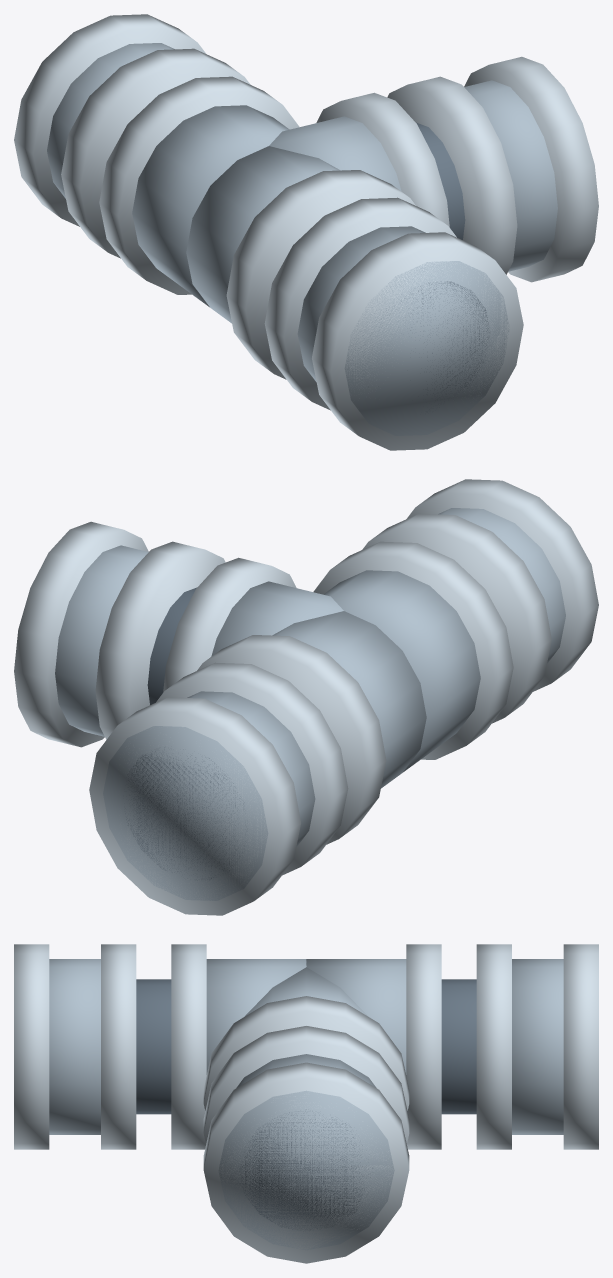
Rendered from pipe_tee.glb.
3 renders of one model, top to bottom at view 1: azimuth 30°, elevation 25°; view 2: azimuth 150°, elevation 25°; view 3: azimuth 270°, elevation 25°, orthographic. The views are drawn at different scales.
Parts seen in each view (by area): view 1: Pipe_Collar.003, Pipe_Shell.003, Pipe_Water.003; view 2: Pipe_Collar.003, Pipe_Shell.003, Pipe_Water.003; view 3: Pipe_Collar.003, Pipe_Shell.003, Pipe_Water.003.
Boxes of the visible parts, x1=… form: Pipe_Collar.003: x1=14, y1=14, x2=598, y2=450; Pipe_Shell.003: x1=47, y1=43, x2=557, y2=435; Pipe_Water.003: x1=370, y1=122, x2=490, y2=412; Pipe_Collar.003: x1=14, y1=479, x2=598, y2=915; Pipe_Shell.003: x1=55, y1=508, x2=565, y2=900; Pipe_Water.003: x1=125, y1=587, x2=244, y2=880; Pipe_Collar.003: x1=14, y1=944, x2=598, y2=1263; Pipe_Shell.003: x1=49, y1=959, x2=563, y2=1250; Pipe_Water.003: x1=136, y1=979, x2=476, y2=1231.
Size of the model in its own units: 0.673 by 0.35 by 0.996.
